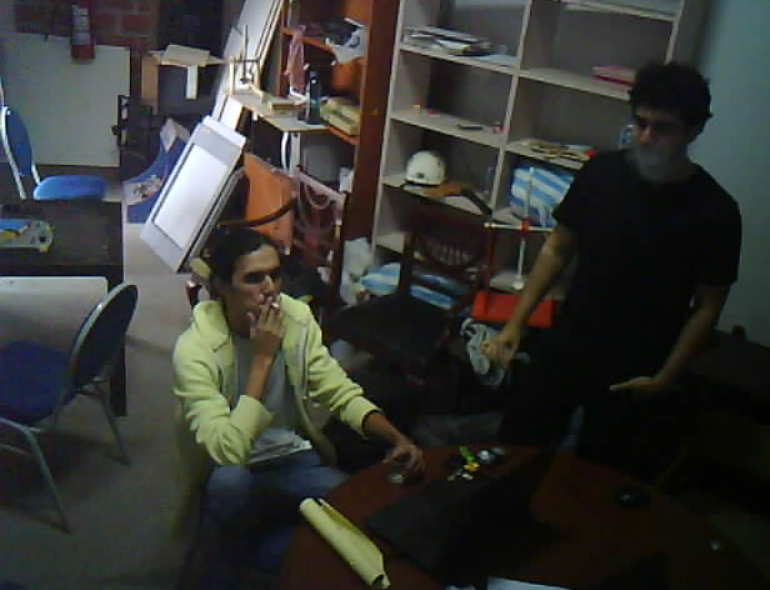person: (463, 31, 755, 486), (146, 206, 440, 590)
